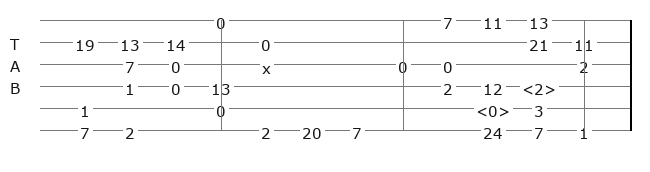0: (171, 57, 185, 72), (171, 79, 185, 94), (216, 13, 230, 28), (216, 101, 230, 116), (261, 35, 275, 50), (398, 57, 412, 72), (443, 57, 457, 72)
1: (80, 101, 94, 116), (125, 79, 139, 94), (579, 123, 593, 138)
11: (483, 13, 507, 28), (574, 35, 598, 50)
12: (483, 79, 507, 94)
13: (120, 35, 144, 50), (211, 79, 235, 94), (529, 13, 553, 28)
14: (166, 35, 190, 50)
19: (75, 35, 99, 50)
2: (125, 123, 139, 138), (261, 123, 275, 138), (443, 79, 457, 94), (579, 57, 593, 72)
20: (302, 123, 326, 138)
21: (529, 35, 553, 50)
24: (483, 123, 507, 138)
3: (534, 101, 548, 116)
7: (80, 123, 94, 138), (125, 57, 139, 72), (352, 123, 366, 138), (443, 13, 457, 28), (534, 123, 548, 138)
harmonic: (476, 101, 514, 116), (522, 79, 560, 94)
x: (262, 58, 275, 70)
